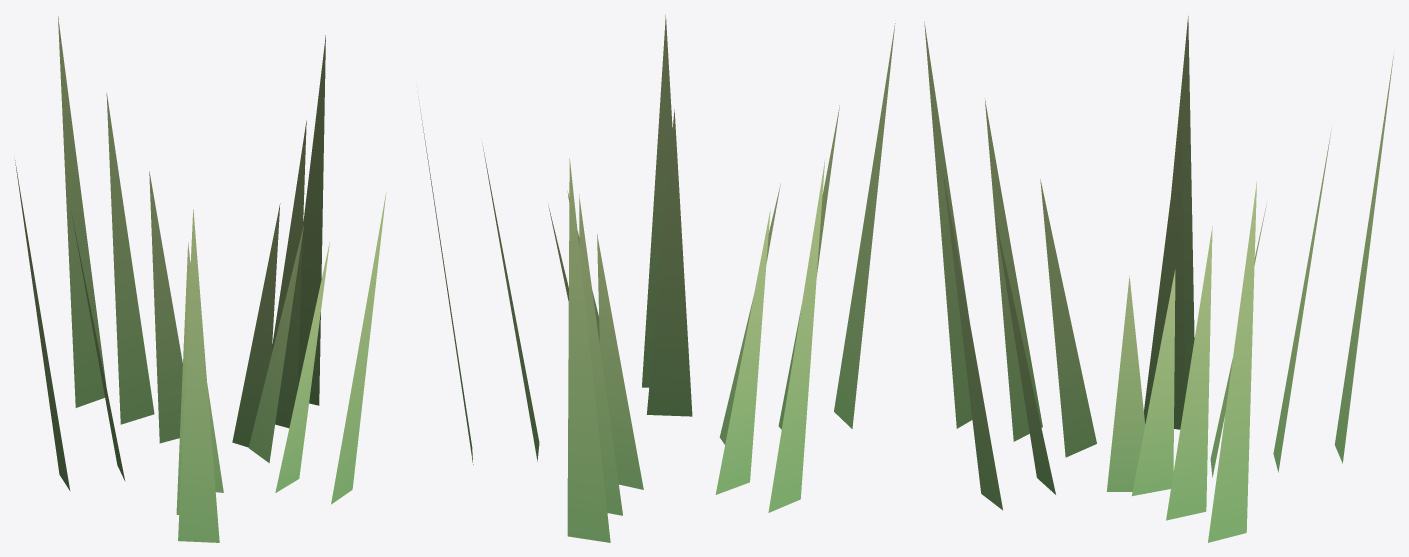
Rendered from style_grass.glb.
3 renders of one model, left to right at view 1: azimuth 30°, elevation 25°; view 2: azimuth 150°, elevation 25°; view 3: azimuth 270°, elevation 25°, orthographic. The views are drawn at different scales.
Parts seen in each view (by area): view 1: style_grass; view 2: style_grass; view 3: style_grass.
Part boxes in pixels (x1,y1,x2,y2): style_grass: (14,16,386,542); style_grass: (417,15,895,542); style_grass: (924,16,1394,542).
Size of the model in its own units: 1.13 by 1.17 by 1.24.
